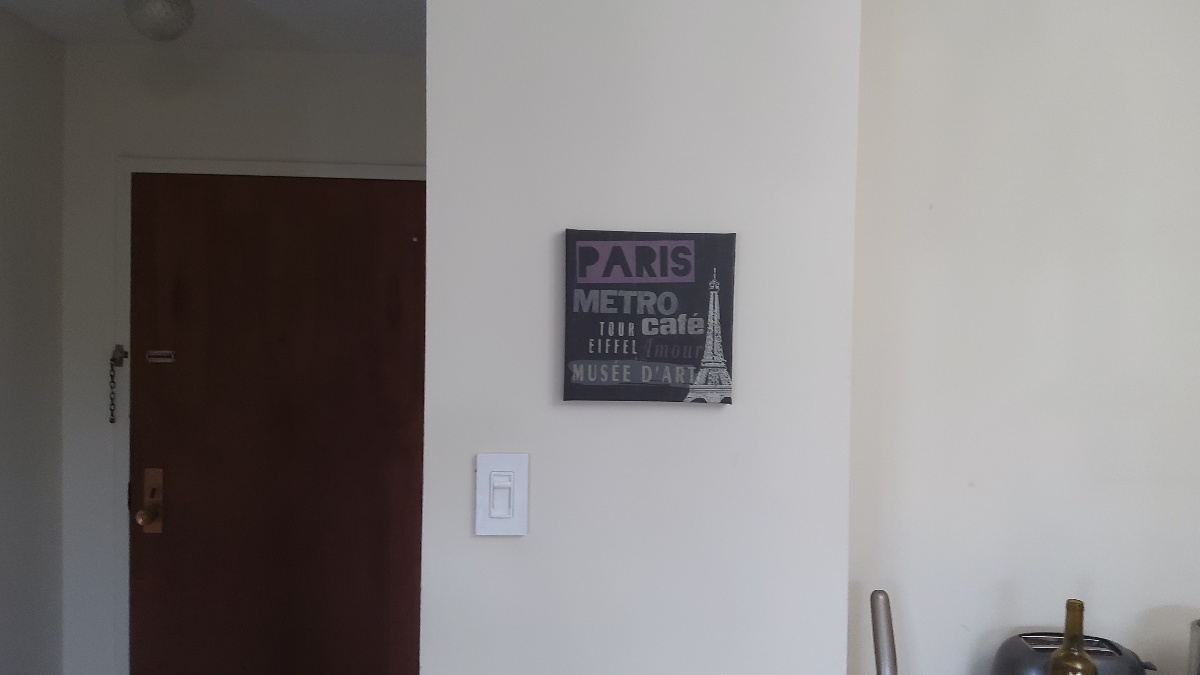poster: (562, 227, 737, 407)
